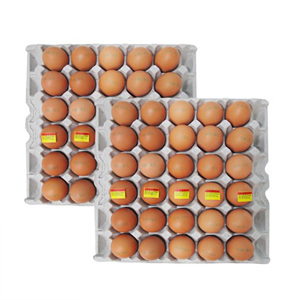egg: (111, 100, 256, 265), (39, 45, 183, 202)
